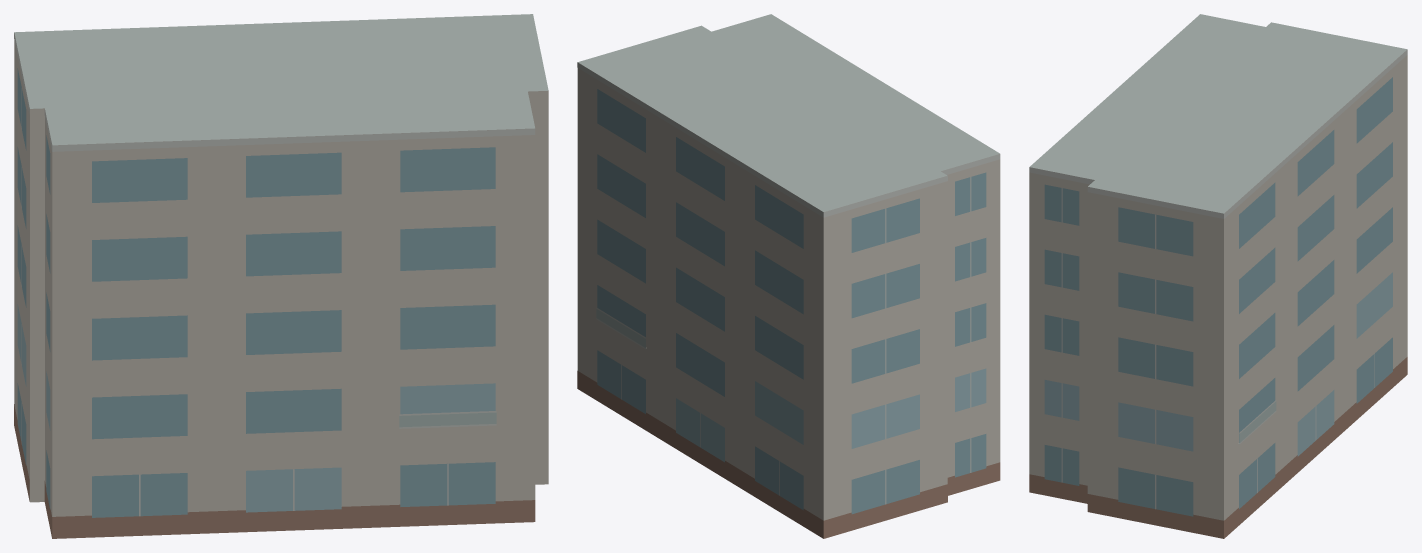
The model's file is survey-upis-32658801.glb.
3 views of the same model, side by side, from view 1: azimuth 30°, elevation 25°; view 2: azimuth 150°, elevation 25°; view 3: azimuth 270°, elevation 25° (orthographic). The views are drawn at different scales.
Visible parts, largest first — view 1: survey-upis-32658801.tmp; view 2: survey-upis-32658801.tmp; view 3: survey-upis-32658801.tmp.
Part boxes in pixels (x1,y1,x2,y2): survey-upis-32658801.tmp: (14, 14, 548, 538); survey-upis-32658801.tmp: (577, 14, 1000, 538); survey-upis-32658801.tmp: (1029, 14, 1407, 538).
Size of the model in its own units: 19.23 by 14.6 by 15.4.
